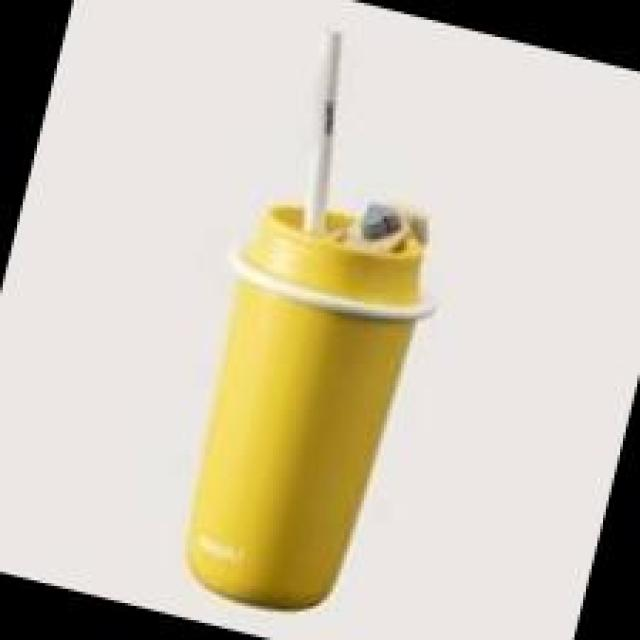bottle: (146, 13, 494, 630)
